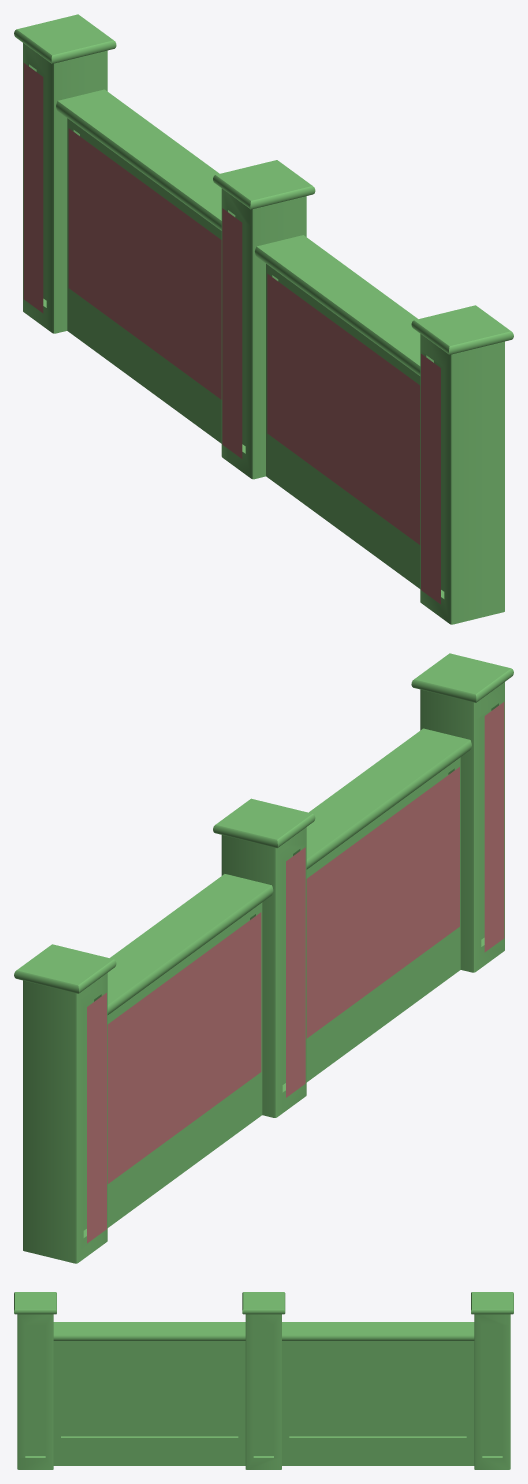
The model's file is Wall01.fbx.
The picture shows the model from 3 angles, top to bottom: view 1: azimuth 30°, elevation 25°; view 2: azimuth 150°, elevation 25°; view 3: azimuth 270°, elevation 25°; orthographic projection. The views are drawn at different scales.
Visible parts, largest first — view 1: Plane002; view 2: Plane002; view 3: Plane002.
Part boxes in pixels (bbox=[...]): Plane002: bbox=[14, 14, 513, 624]; Plane002: bbox=[14, 653, 513, 1263]; Plane002: bbox=[14, 1292, 513, 1469].
Size of the model in its own units: 94.85 by 392 by 1099.
